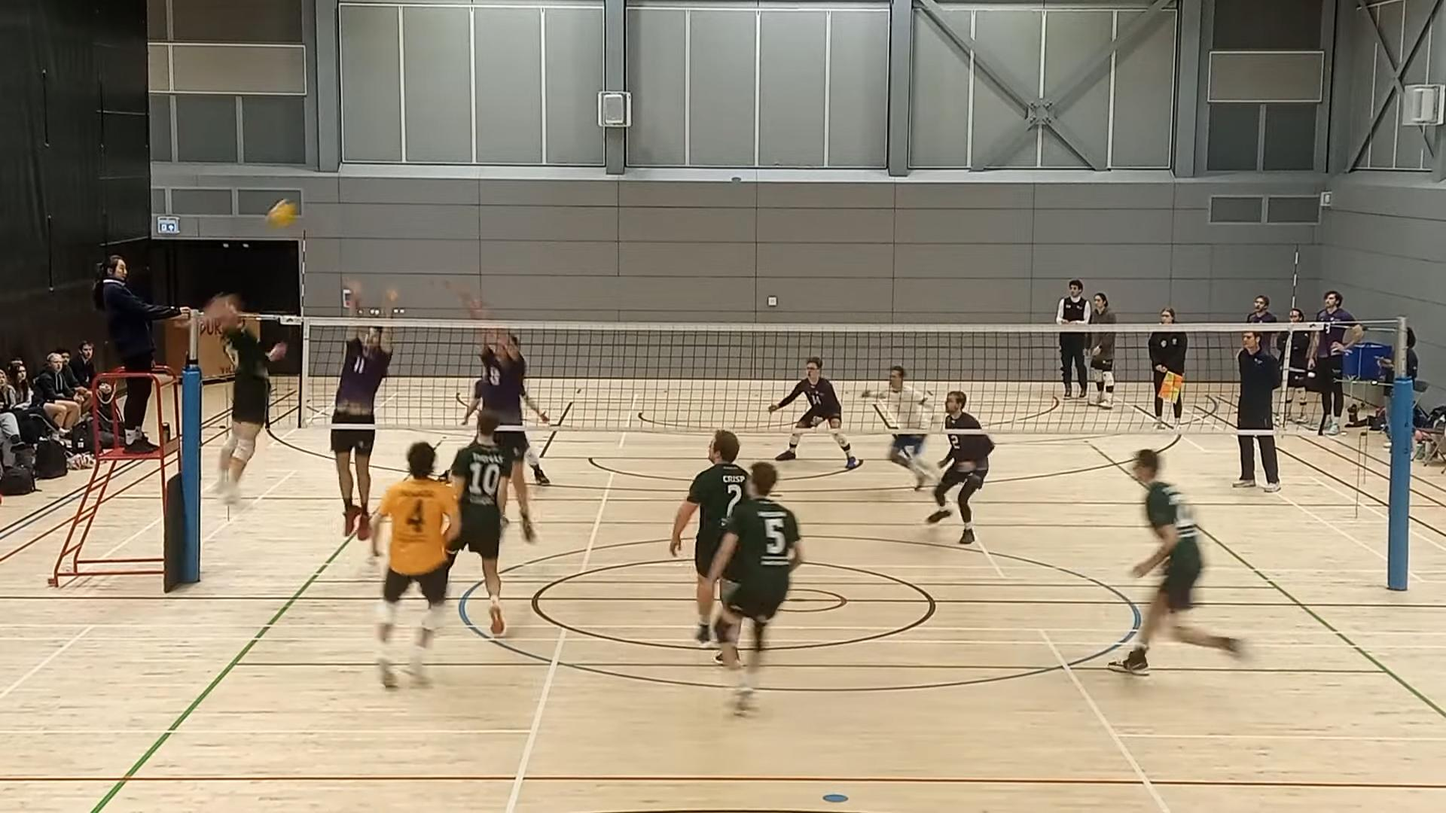attacco: (201, 297, 287, 517)
muro: (446, 279, 543, 543), (330, 279, 401, 544)
